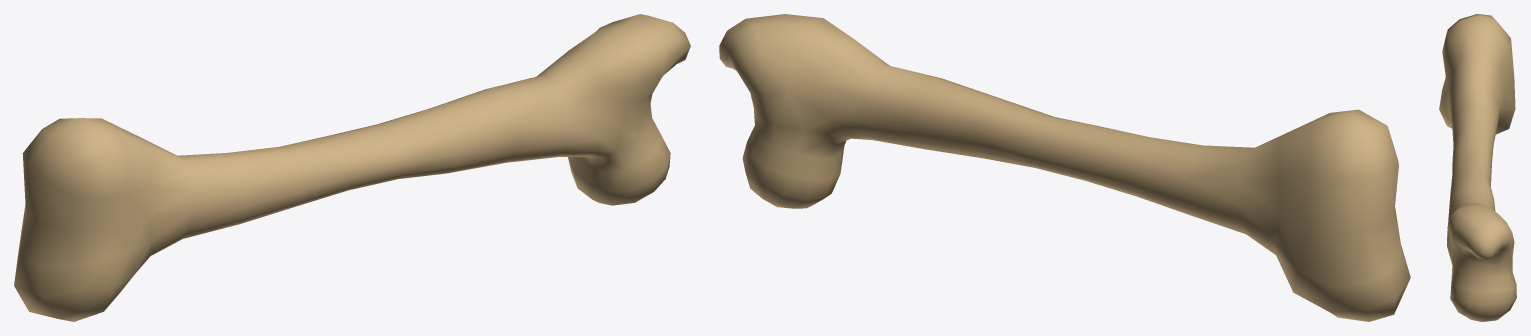
The model's file is bone.glb.
3 renders of one model, left to right at view 1: azimuth 30°, elevation 25°; view 2: azimuth 150°, elevation 25°; view 3: azimuth 270°, elevation 25°, orthographic. The views are drawn at different scales.
Parts seen in each view (by area): view 1: Bone_Q; view 2: Bone_Q; view 3: Bone_Q.
Boxes of the visible parts, x1=… form: Bone_Q: x1=14, y1=14, x2=690, y2=321; Bone_Q: x1=719, y1=14, x2=1410, y2=321; Bone_Q: x1=1439, y1=14, x2=1516, y2=321.
Bounding box in the file's own units: 0.25 × 0.0775 × 0.04.
